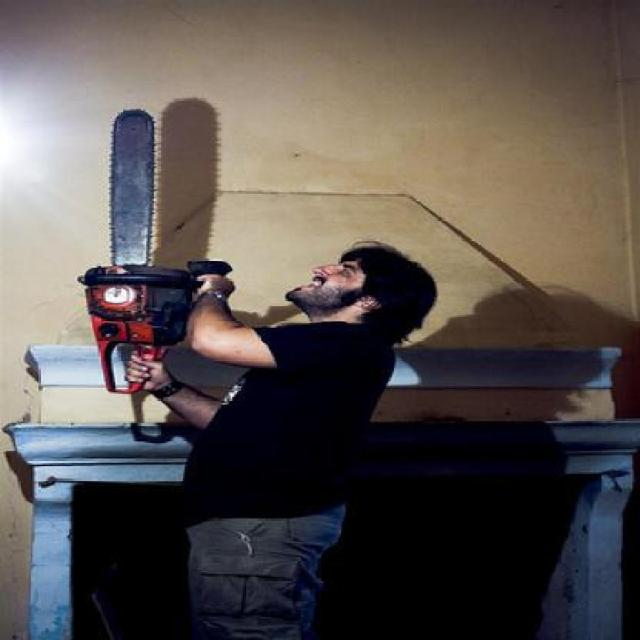Chainsaw: (76, 108, 216, 395)
